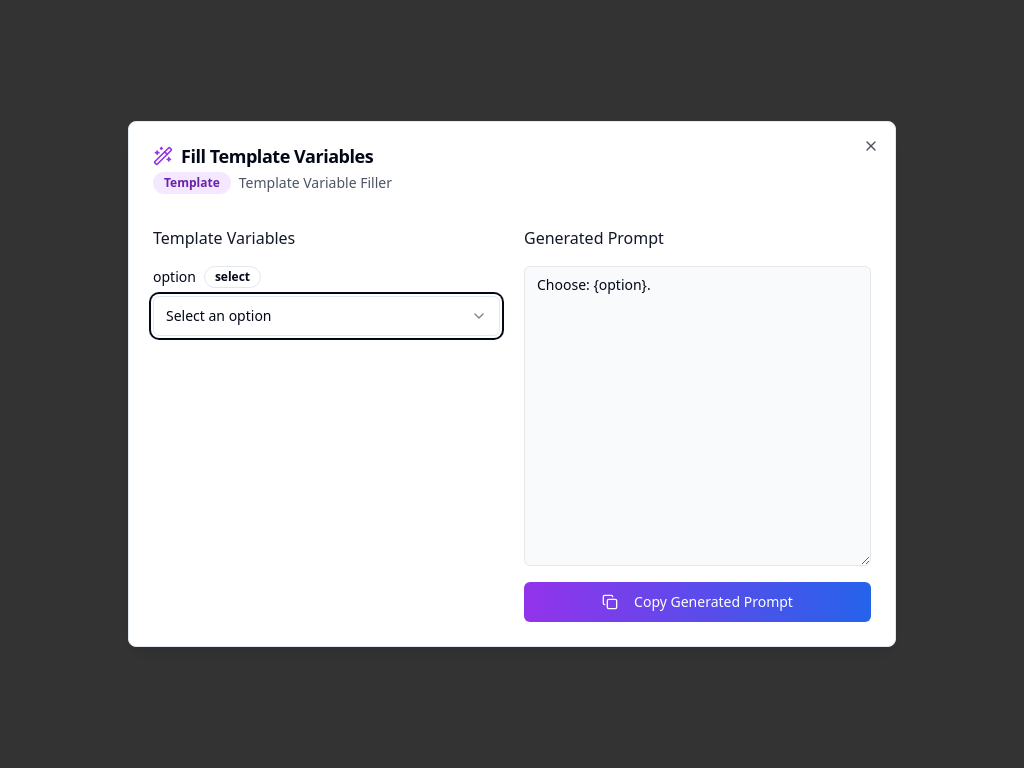
Test case: TemplateVariableFiller › handles select type variables
This screenshot has width=1024, height=768.
Click the dropdown at x=219, y=316, box [153,296,500,336]
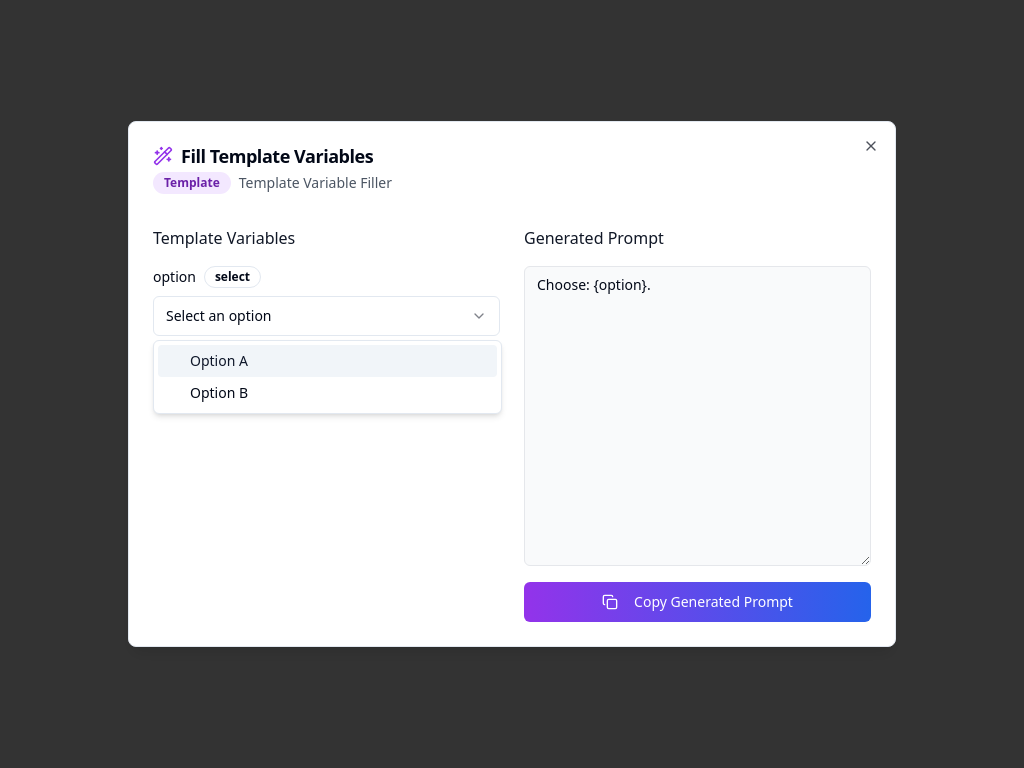
Click the option "Option B" at x=219, y=392, box [190,383,248,402]
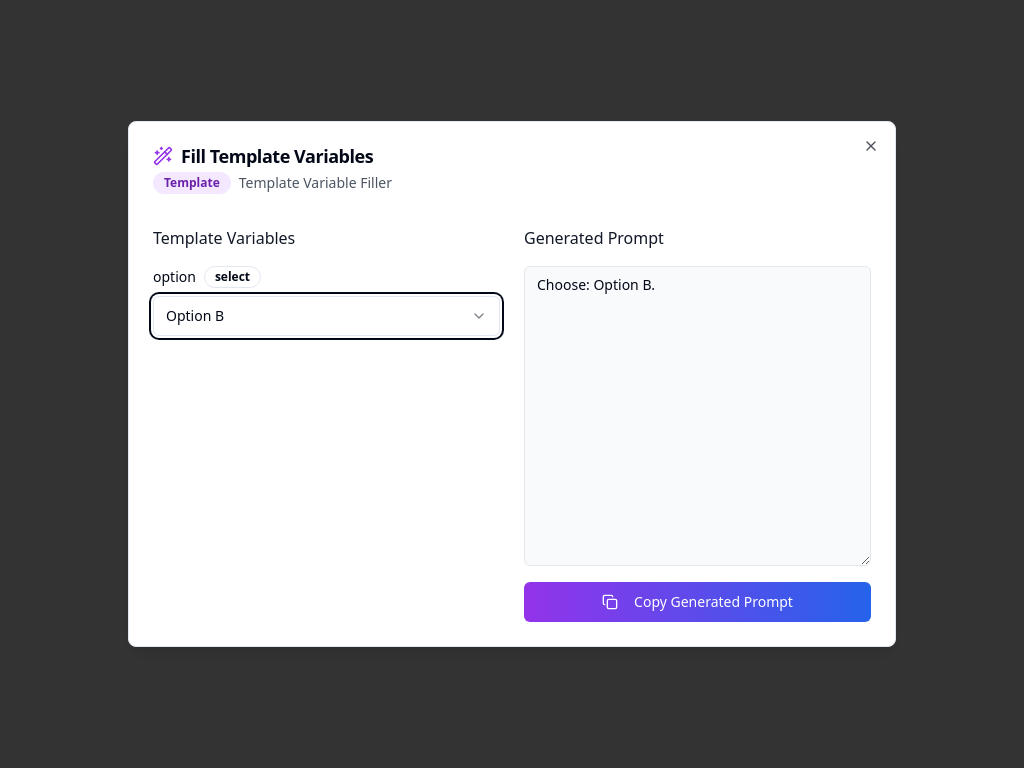
Expected: the text box showing "Choose: Option B." is shown, [524,266,871,566]
